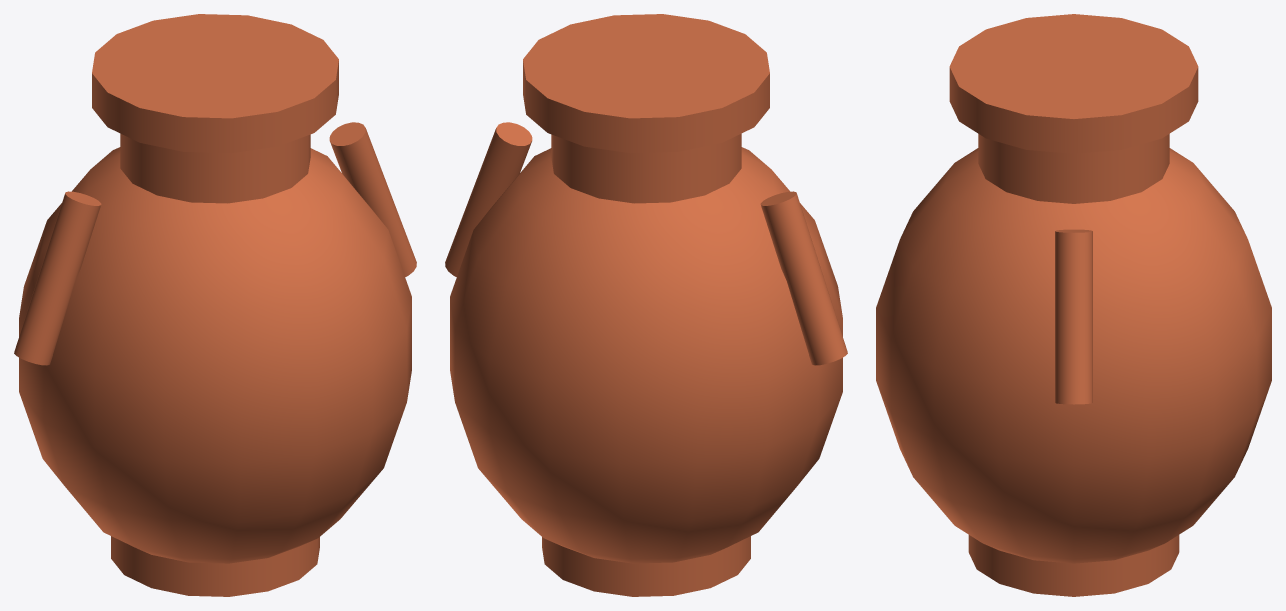
File: desert_urn.glb
3 views of the same model, side by side, from view 1: azimuth 30°, elevation 25°; view 2: azimuth 150°, elevation 25°; view 3: azimuth 270°, elevation 25° (orthographic).
Parts seen in each view (by area): view 1: UrnBelly, UrnLip, UrnNeck, UrnFoot, Handle, _MeshInstance3D_95; view 2: UrnBelly, UrnLip, UrnNeck, UrnFoot, Handle, _MeshInstance3D_95; view 3: UrnBelly, UrnLip, UrnNeck, UrnFoot, _MeshInstance3D_95.
Part boxes in pixels (box(x1,y1,x2,y2)): UrnBelly: box(19, 147, 411, 563); UrnLip: box(92, 14, 338, 153); UrnNeck: box(120, 133, 310, 203); UrnFoot: box(111, 536, 319, 596); Handle: box(14, 191, 101, 365); _MeshInstance3D_95: box(329, 122, 416, 276); UrnBelly: box(450, 147, 842, 563); UrnLip: box(523, 14, 769, 153); UrnNeck: box(551, 133, 741, 203); UrnFoot: box(542, 536, 750, 596); Handle: box(760, 191, 847, 365); _MeshInstance3D_95: box(445, 122, 532, 276); UrnBelly: box(876, 148, 1271, 563); UrnLip: box(949, 14, 1198, 153); UrnNeck: box(978, 134, 1169, 203); UrnFoot: box(968, 535, 1179, 596); _MeshInstance3D_95: box(1055, 229, 1092, 404).
Size of the model in its own units: 0.9583 by 1.12 by 0.8272.
